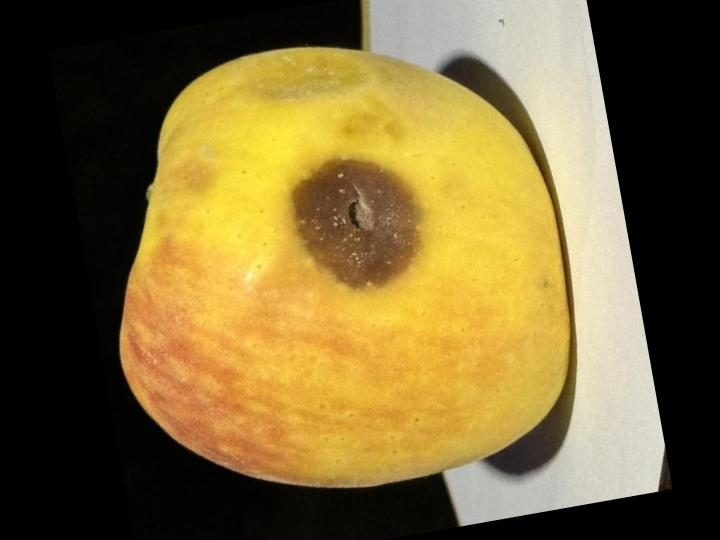apple: (120, 48, 568, 487)
rot_mold_decay: (292, 160, 418, 290)
